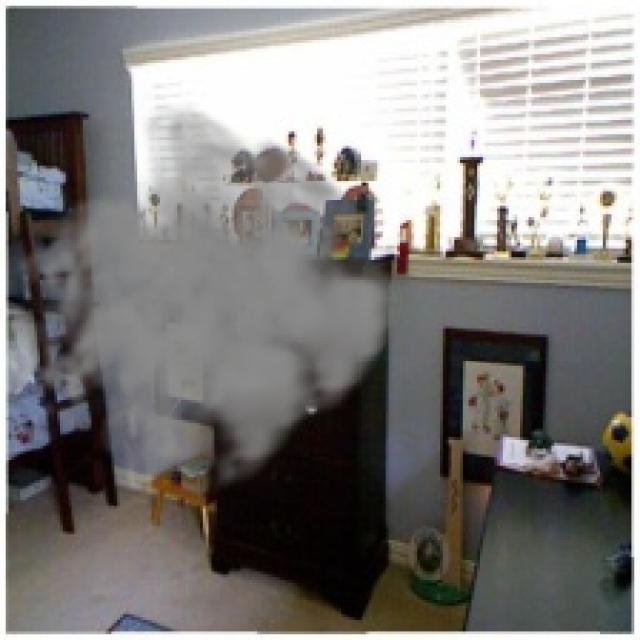smoke: (14, 100, 406, 503)
